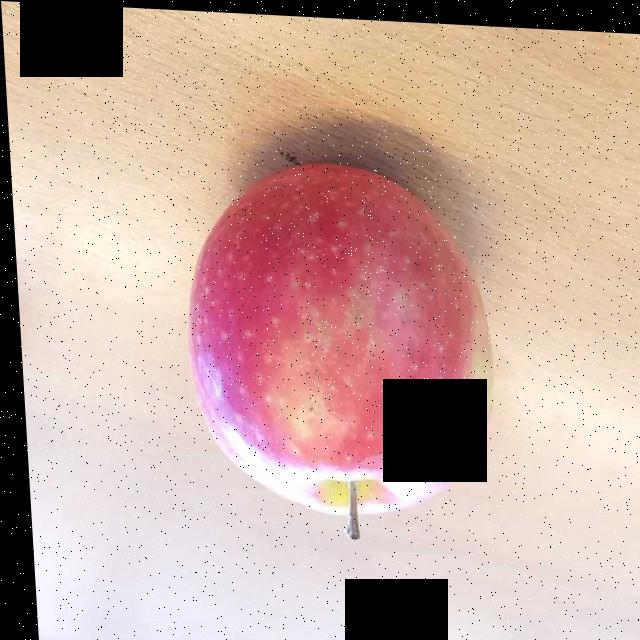apple: (197, 172, 488, 504)
